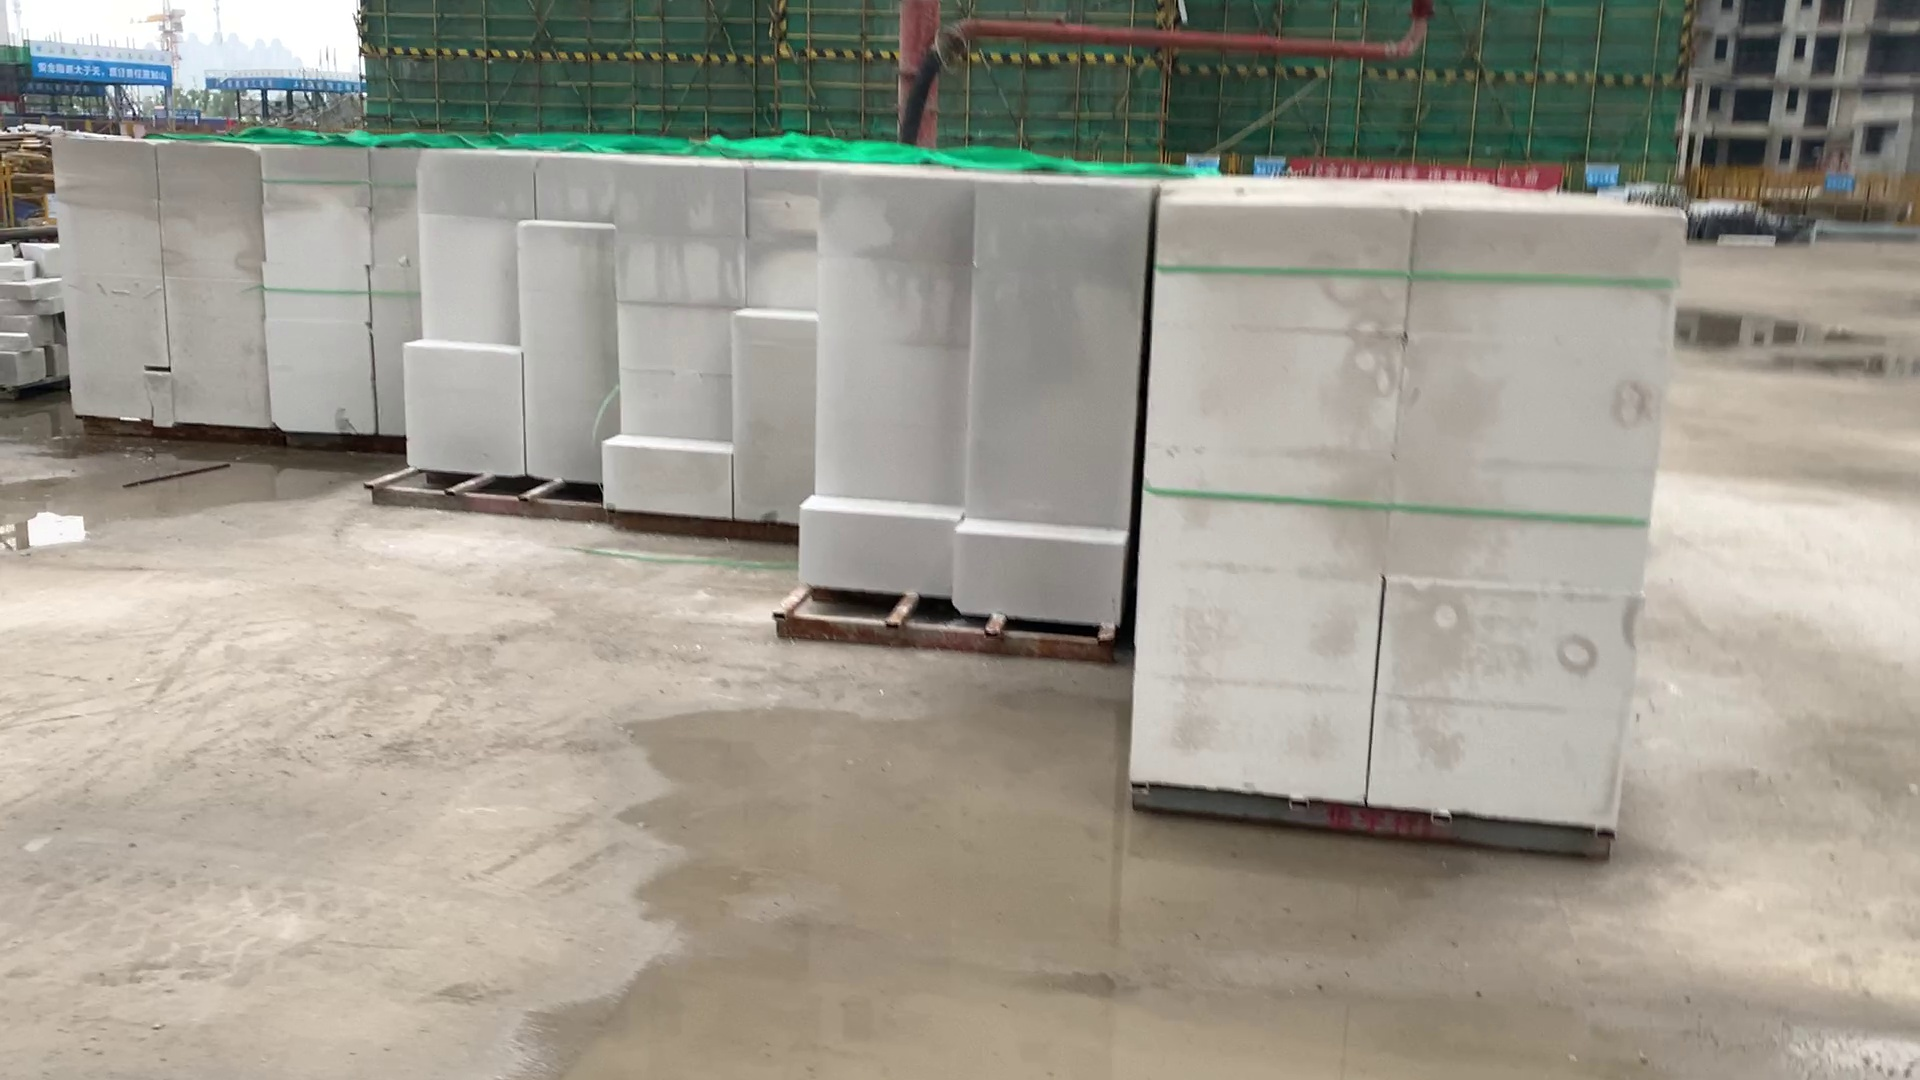brickwork: (1146, 199, 1638, 831), (814, 170, 1120, 645), (407, 150, 620, 498), (618, 156, 810, 531), (47, 135, 272, 436), (265, 156, 411, 439)
